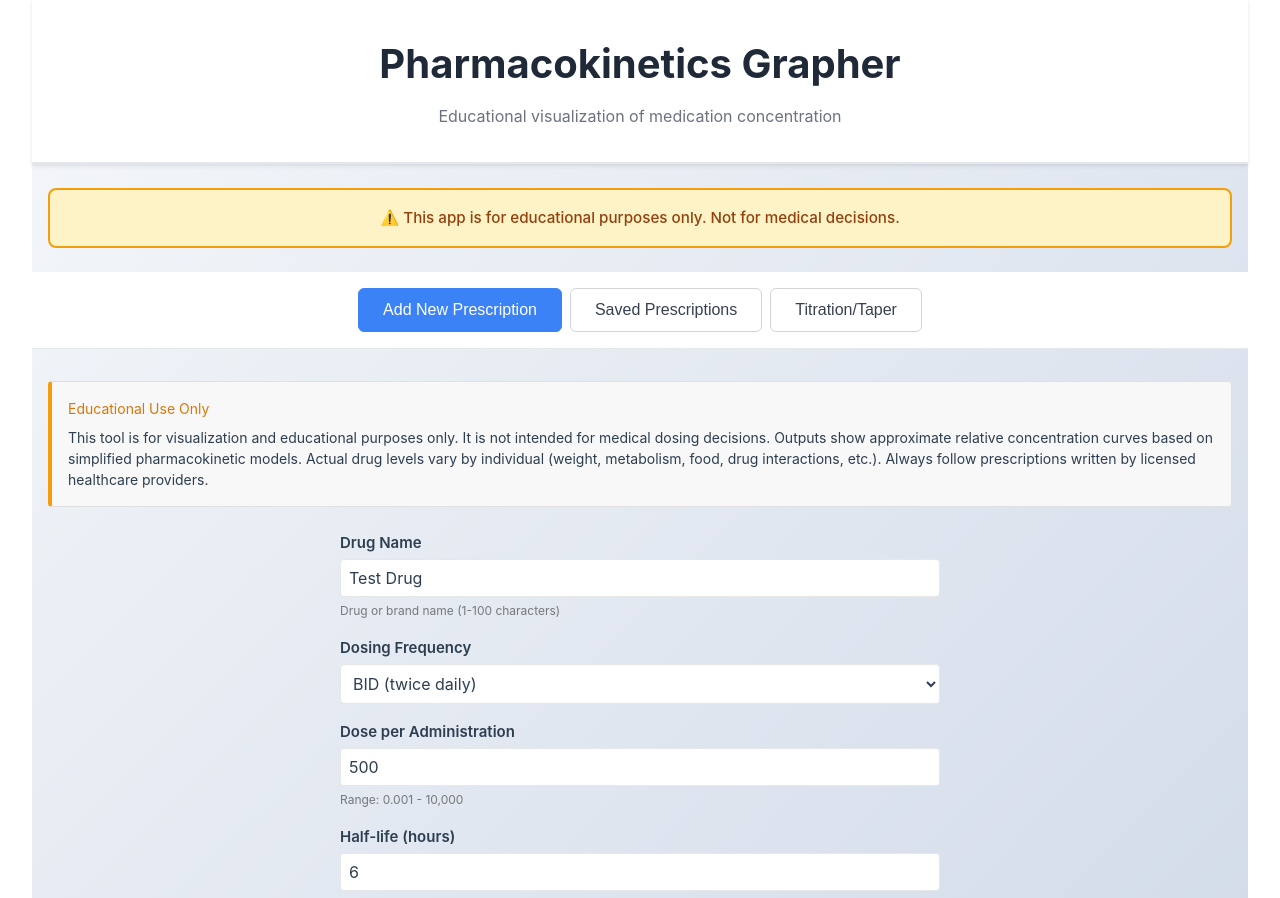
Scenario: App.vue - Schedule Tab Integration › Schedule sub-navigation › switches to schedule list sub-view
Step 1. Click the button "Titration/Taper" → (846, 310), box [770,288,922,332]
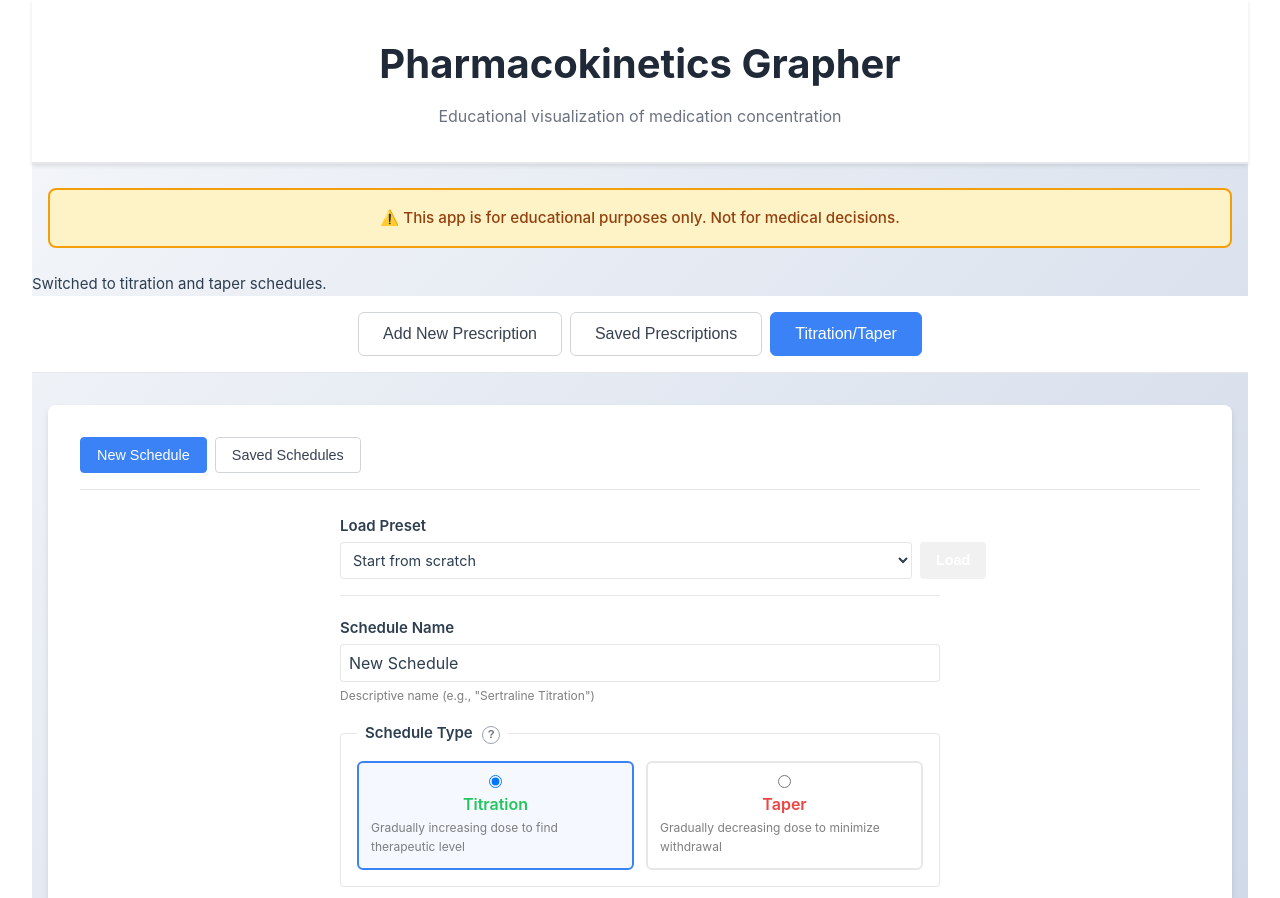
Step 2. Click the button "Saved Schedules" → (288, 455), box [215,437,361,473]
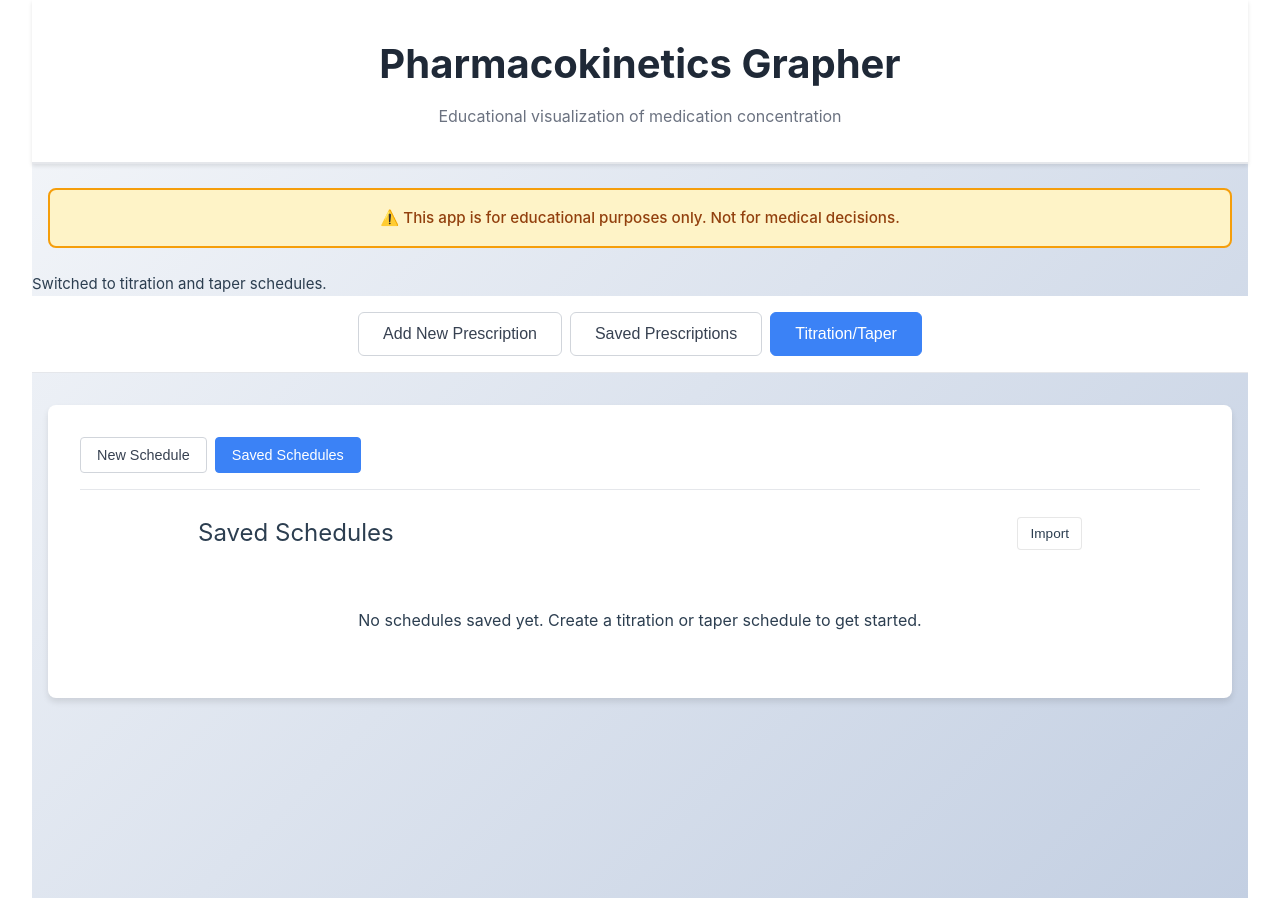
Expected: the element that starts with "Saved Schedules" is shown, [190,514,1090,666]
